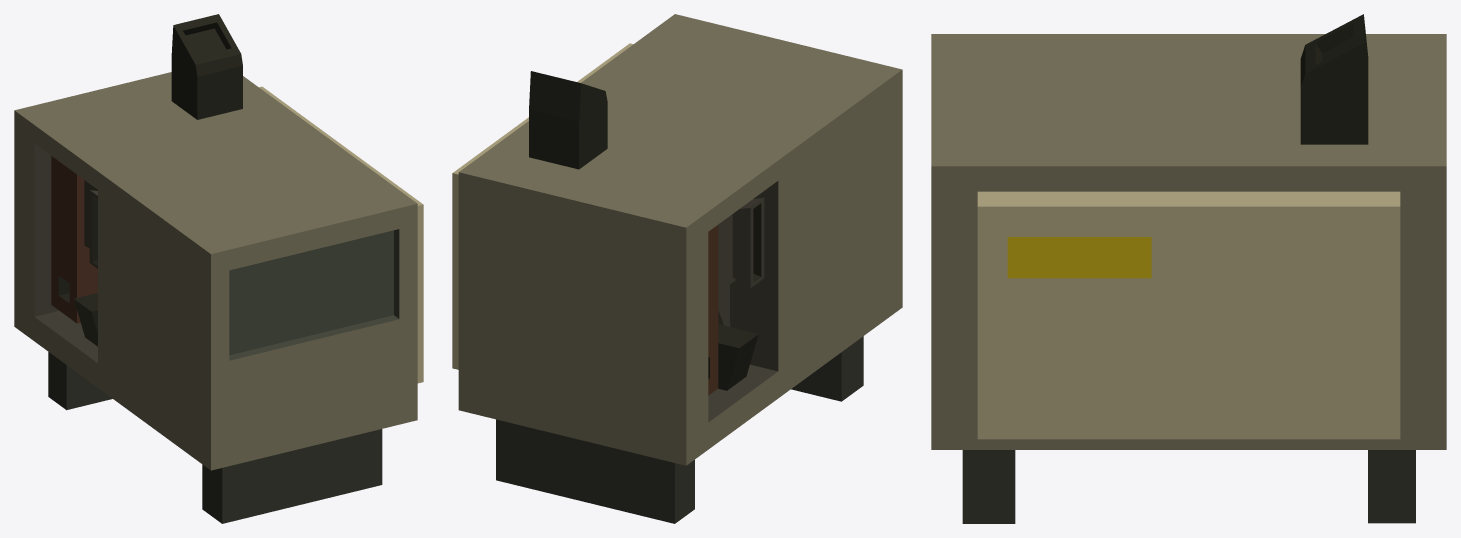
File: generator.glb
3 views of the same model, side by side, from view 1: azimuth 30°, elevation 25°; view 2: azimuth 150°, elevation 25°; view 3: azimuth 270°, elevation 25° (orthographic). The views are drawn at different scales.
Visible parts, largest first — view 1: Cube; view 2: Cube; view 3: Cube.
Part boxes in pixels (box(x1,y1,x2,y2)): Cube: box(14, 14, 423, 523); Cube: box(452, 14, 902, 523); Cube: box(931, 14, 1446, 523).
Bounding box in the file's own units: 1.17 × 1.76 × 1.73.
1 material, 1 textured.
